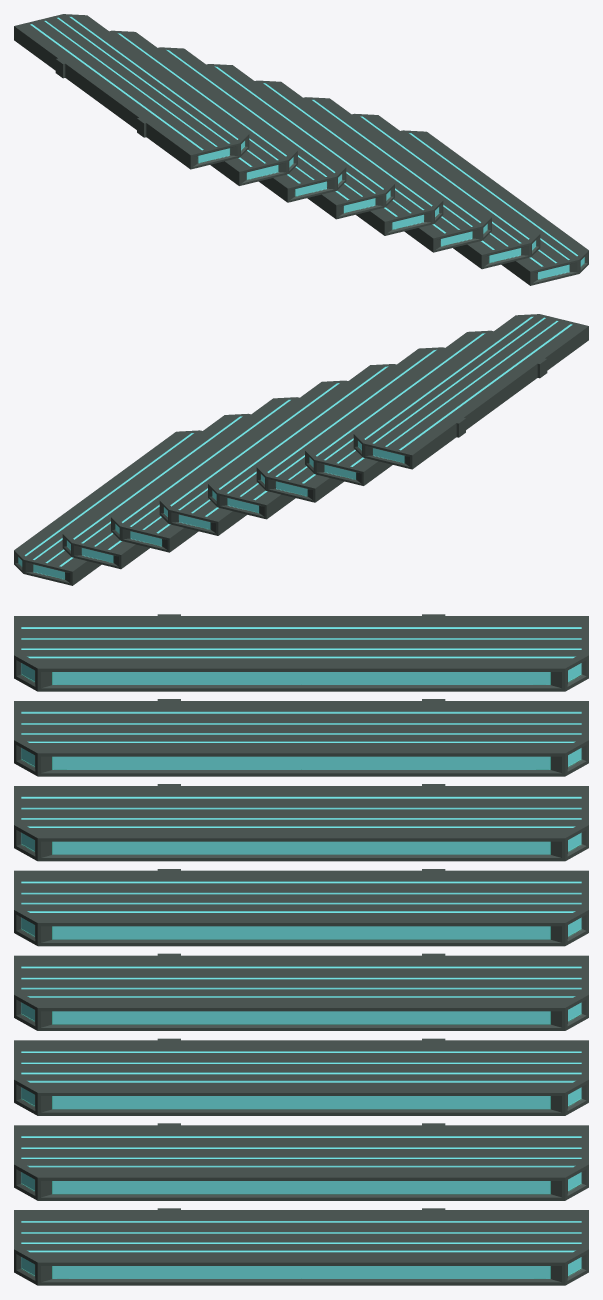
The model's file is TanggaLobby.fbx.
The picture shows the model from 3 angles, top to bottom: view 1: azimuth 30°, elevation 25°; view 2: azimuth 150°, elevation 25°; view 3: azimuth 270°, elevation 25°; orthographic projection. The views are drawn at different scales.
Visible parts, largest first — view 1: Stair.001; view 2: Stair.001; view 3: Stair.001.
Part boxes in pixels (x1,y1,x2,y2): Stair.001: (14,14,588,285); Stair.001: (14,314,588,585); Stair.001: (14,614,588,1285).
Size of the model in its own units: 600 by 300 by 450.
